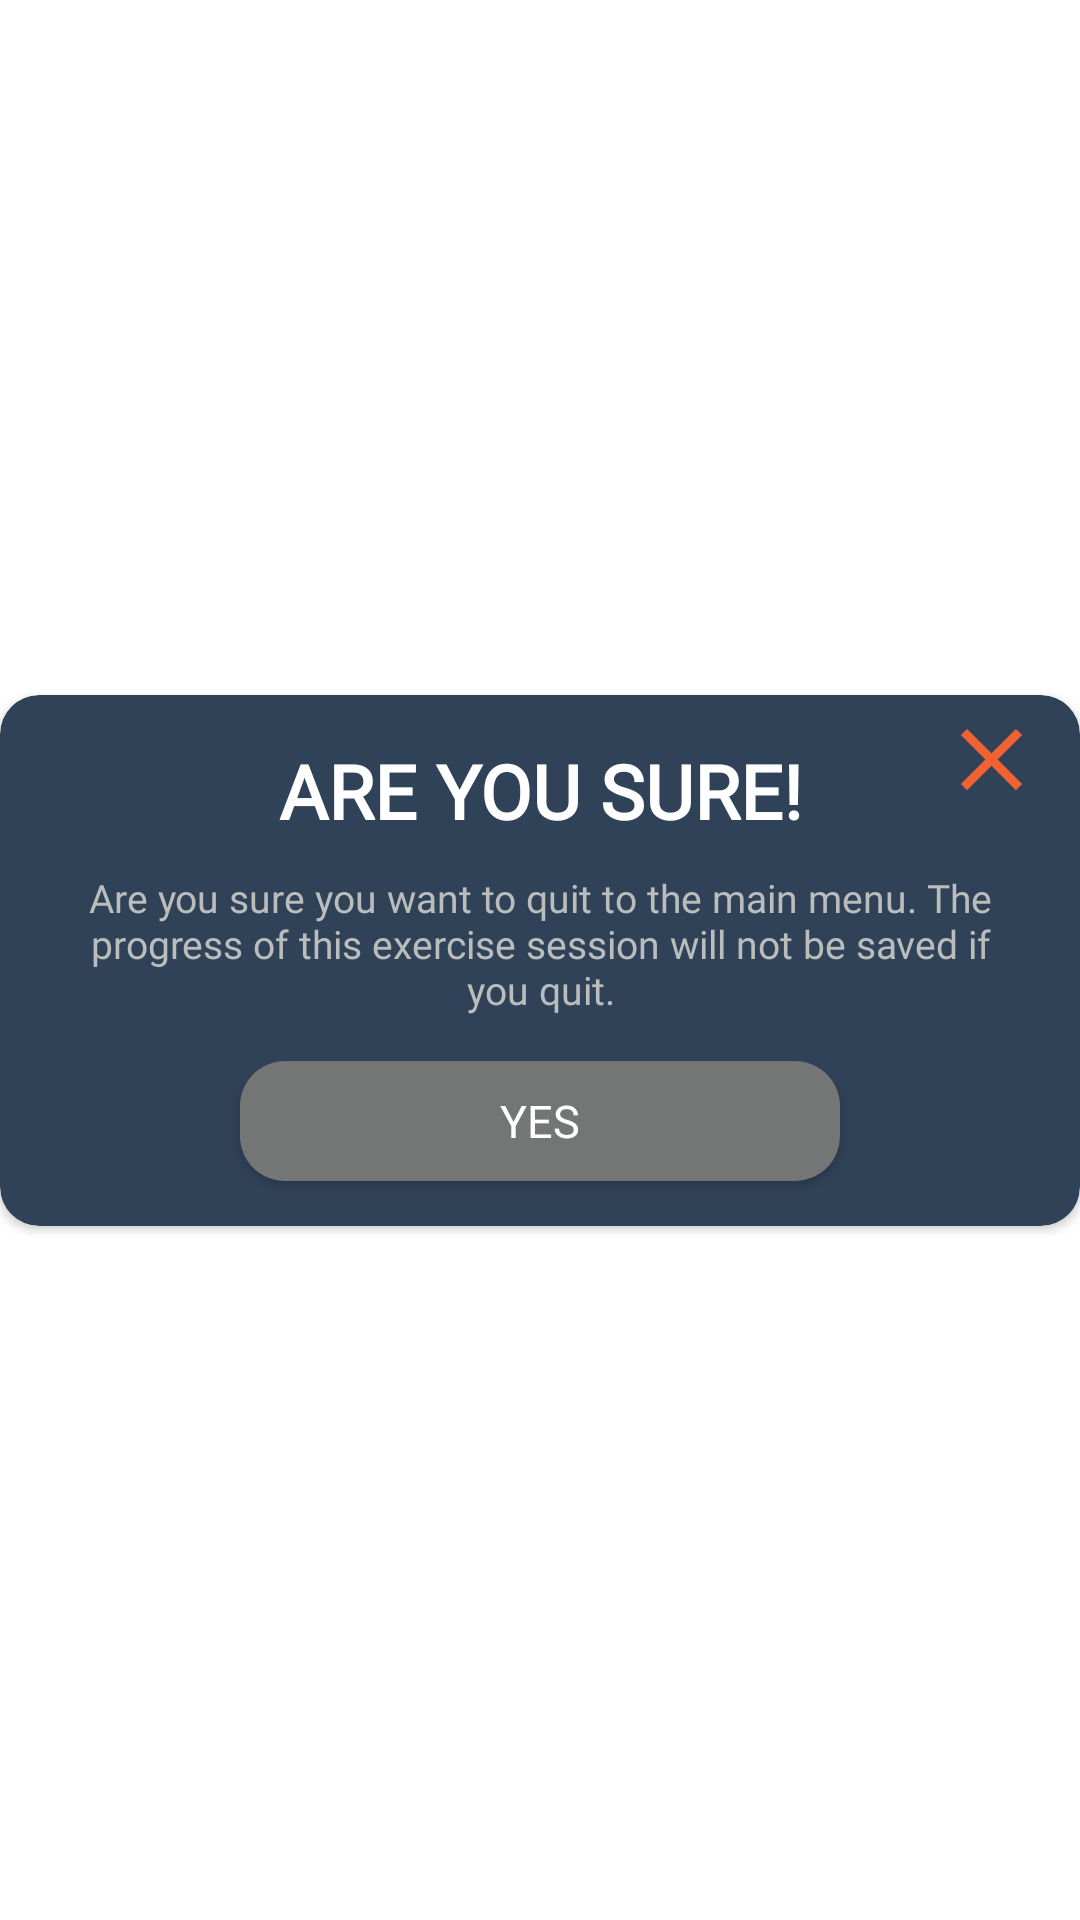

Icon click points for this 1080×1920 phone screenshot, format (x=x, y=y):
close: (x=991, y=759)
